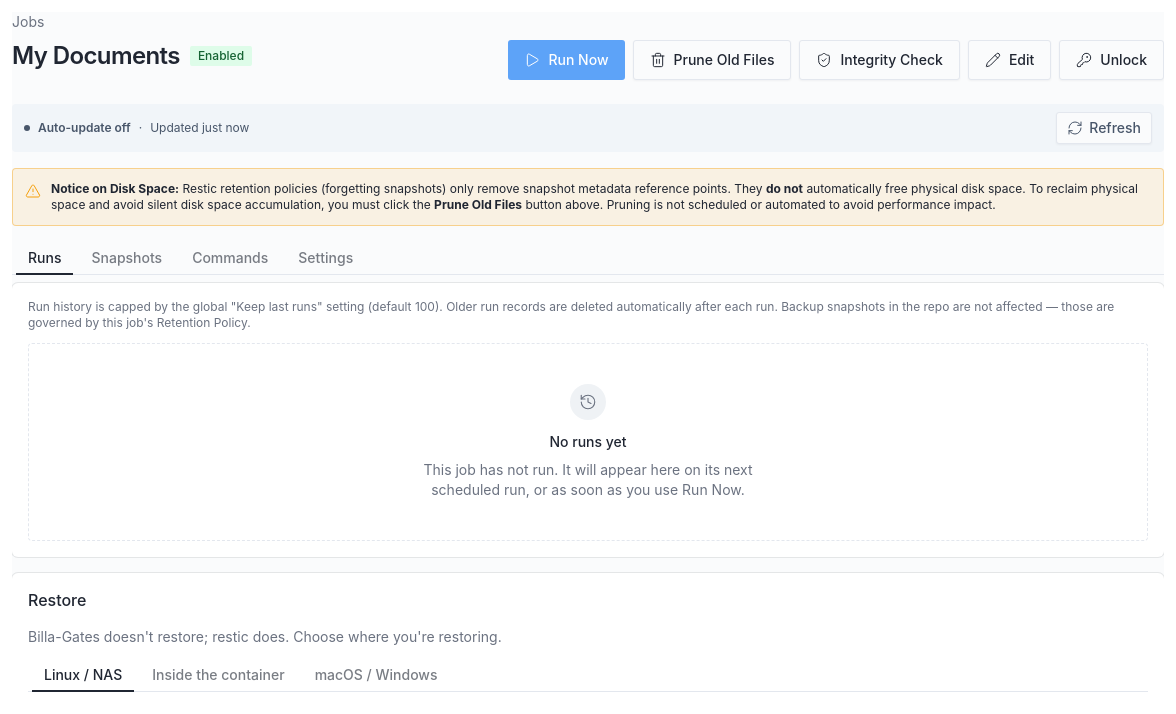
it: JobDetail › commands tab › shows each command exactly as the server rendered it
Click the tab "Commands": [230, 258] box [179,246,281,270]
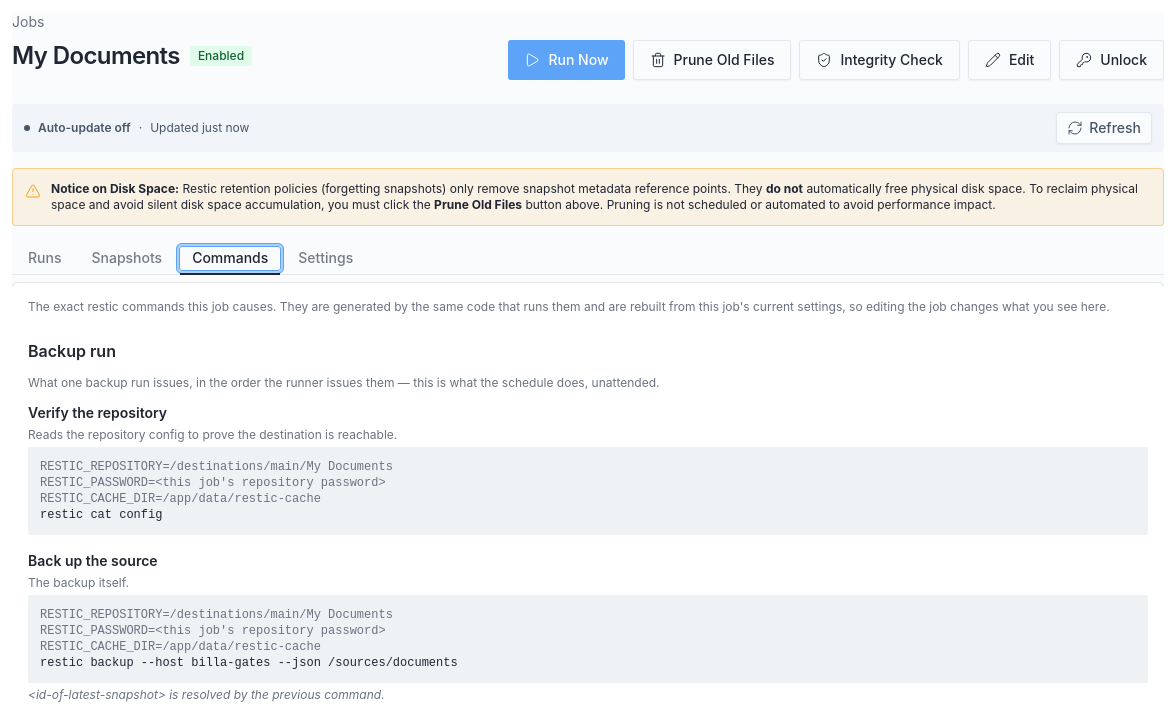
Expected: the text "restic cat config" is shown, [40,508,162,522]
Expected: the text "restic backup --host billa-gates --json /sources/documents" is shown, [40,656,458,670]
Expected: the heading "Verify the repository" is shown, [28,403,167,423]
